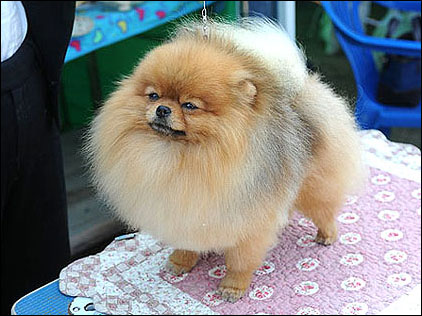pomeranian: (94, 26, 368, 302)
